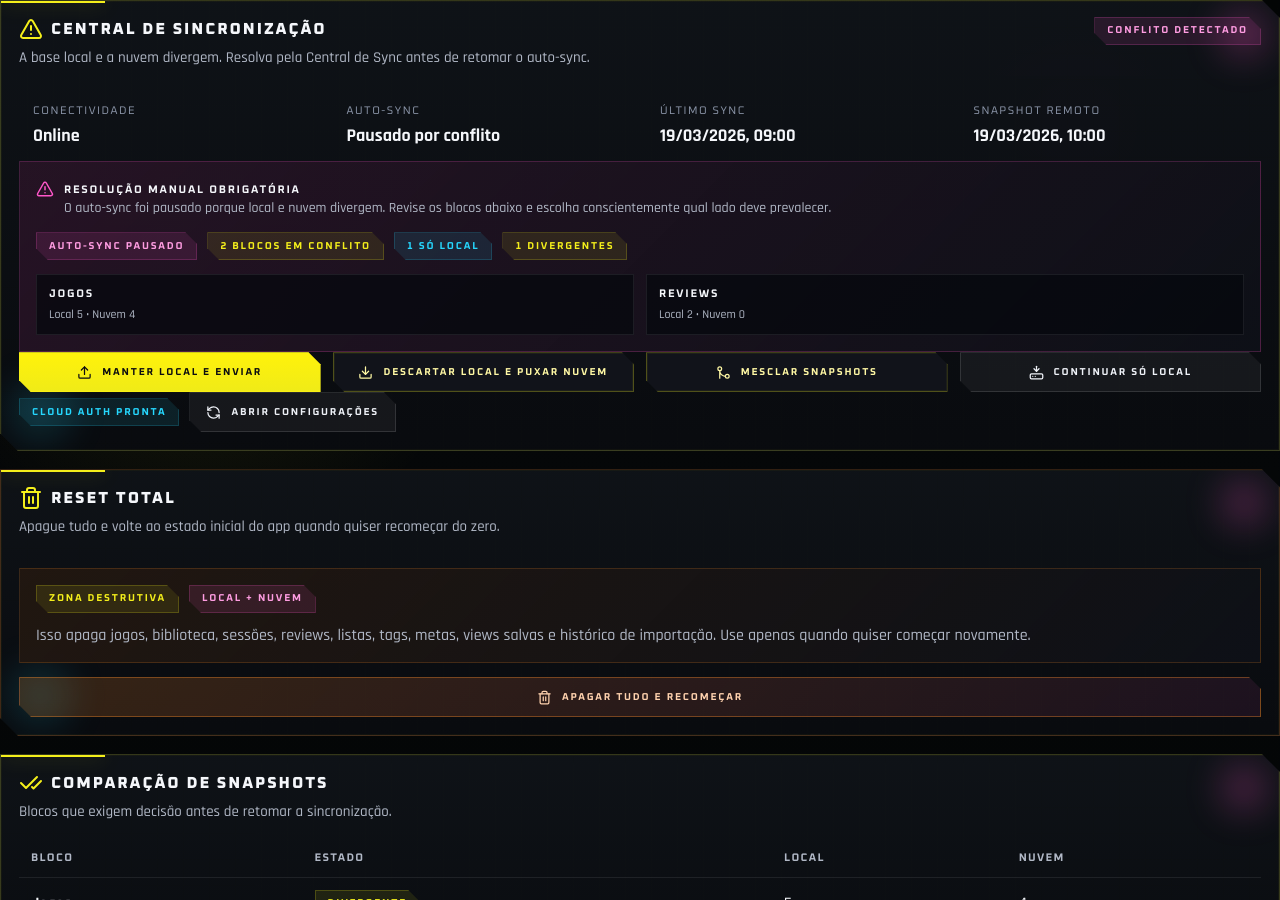
Test: SyncCenterScreen › requires confirmation before sending local data, pulling cloud data, or merging
The image size is (1280, 900).
Click the button "Manter local e enviar" at (170, 372), box [19,352,320,392]
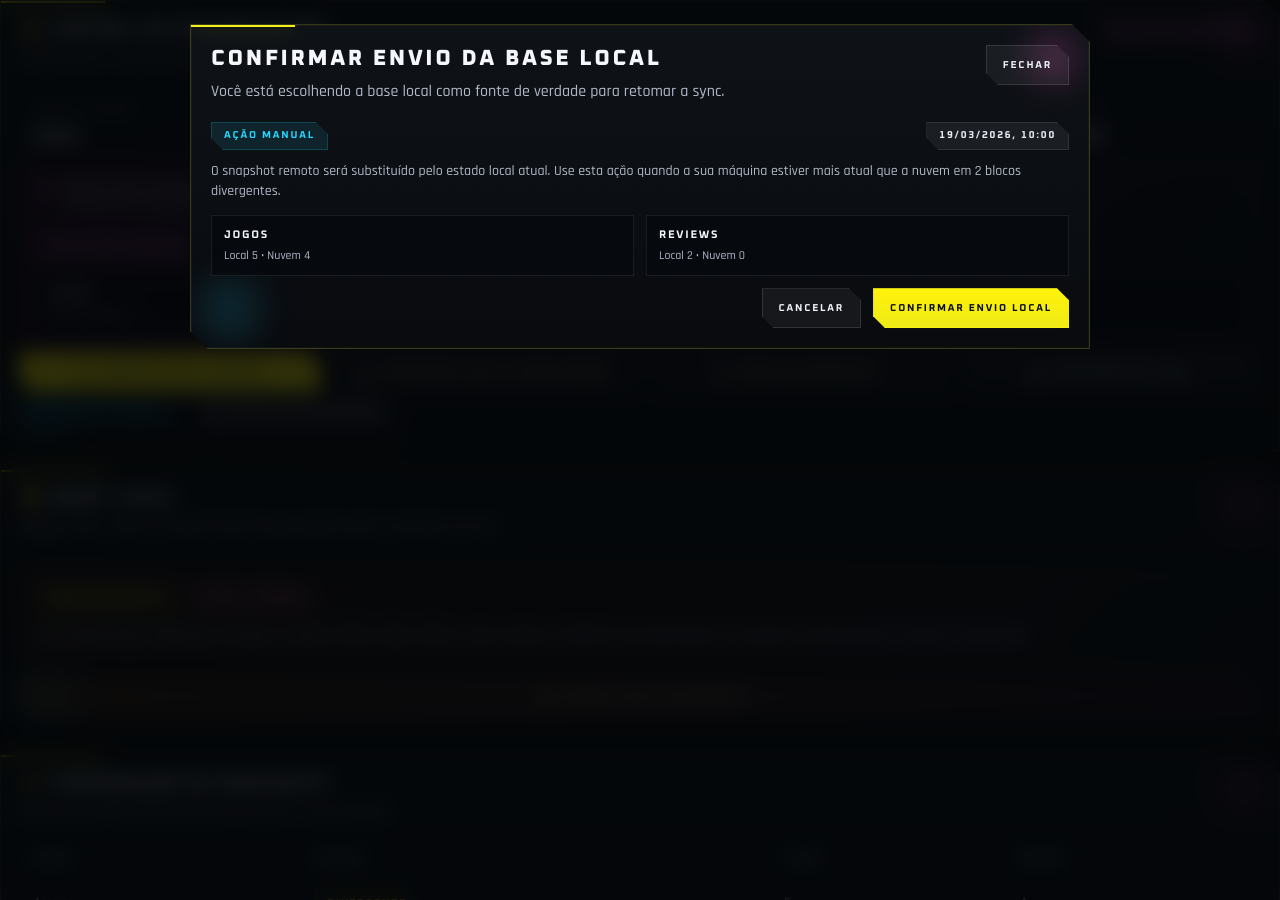
Expected: the dialog is shown
Expected: the heading "Confirmar envio da base local" is shown, [211,45,724,73]
Click the button "Confirmar envio local" at (971, 308), box [873,288,1069,328]
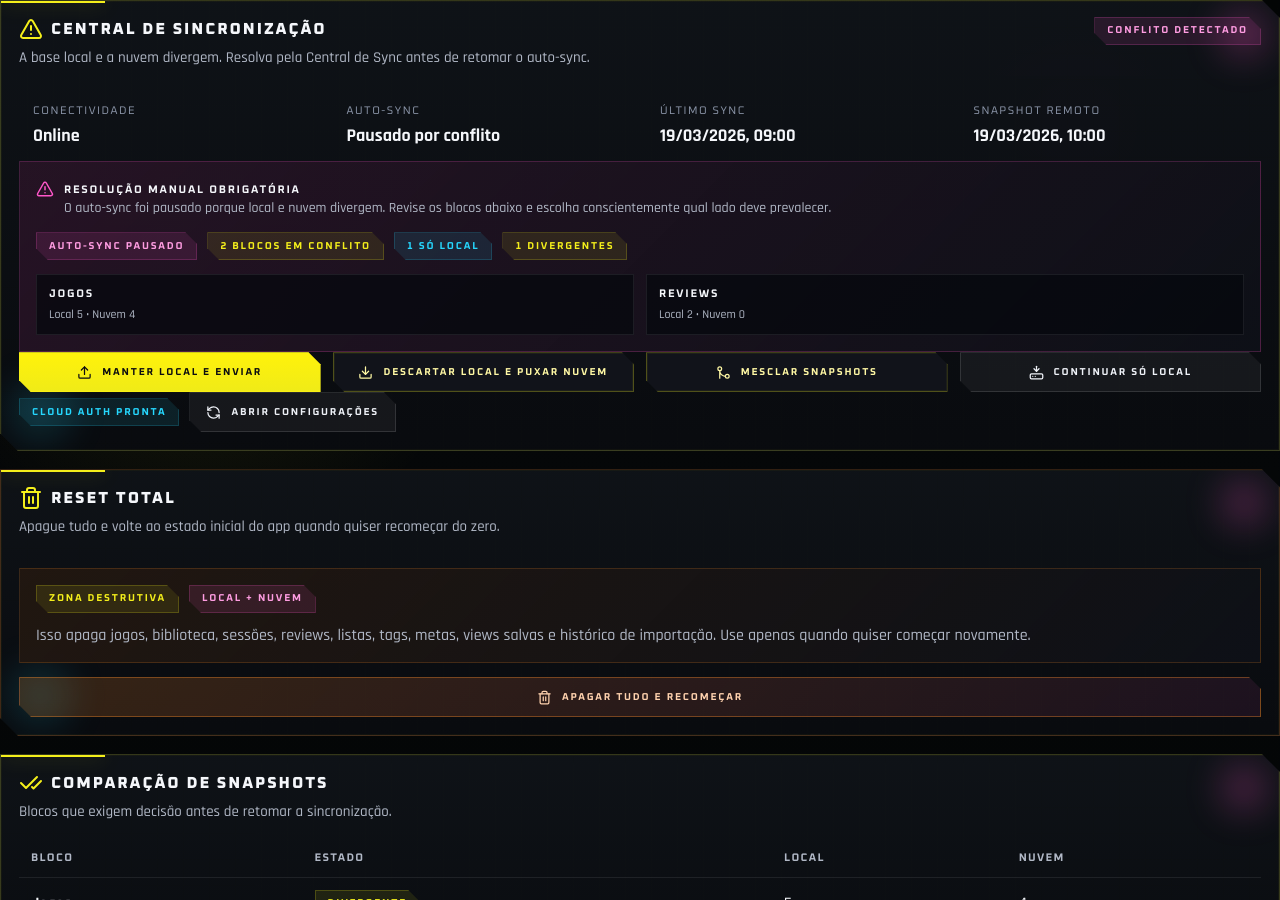
Expected: the heading "Confirmar envio da base local" is gone
Click the button "Descartar local e puxar nuvem" at (483, 372), box [332,352,634,392]
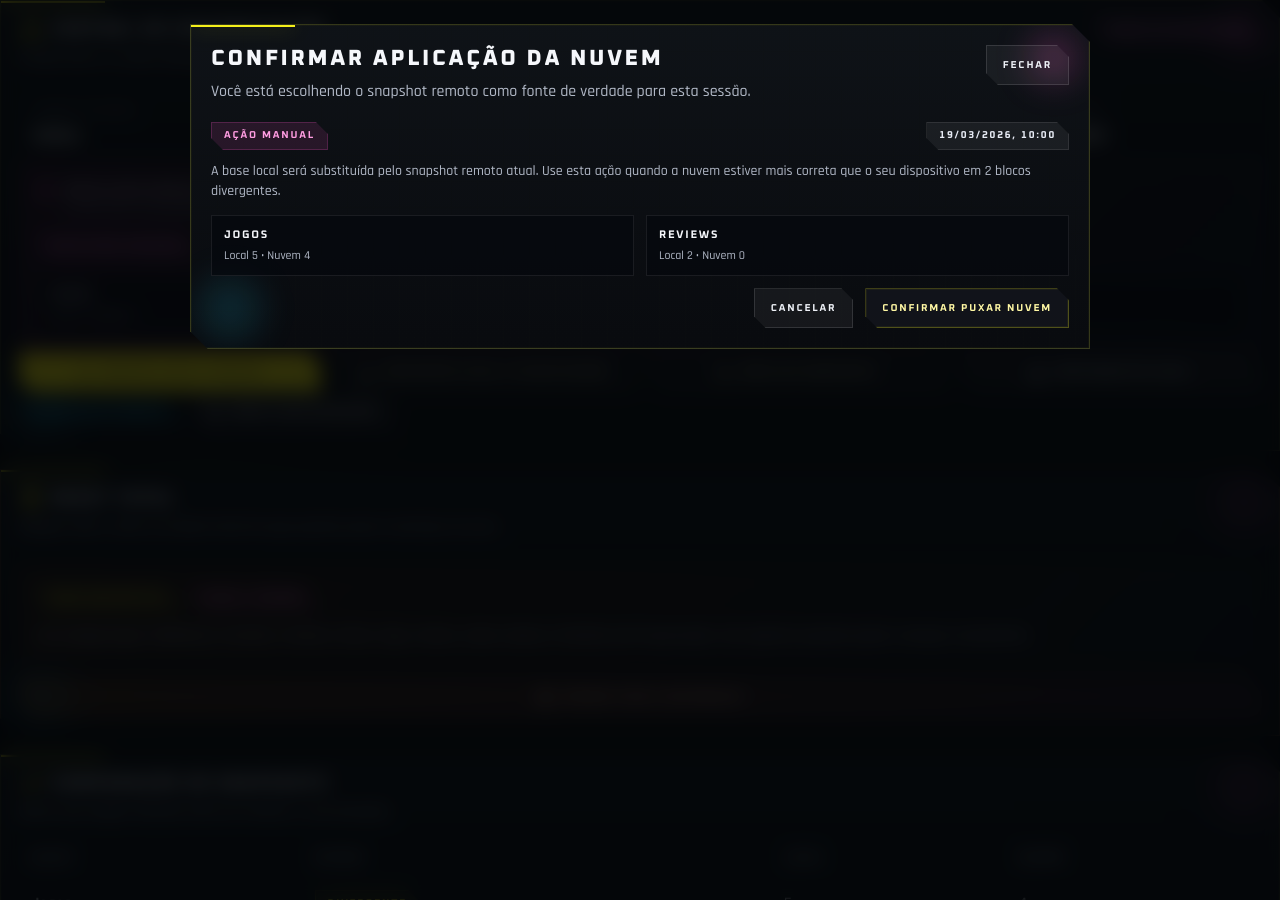
Expected: the heading "Confirmar aplicação da nuvem" is shown, [211,48,663,70]
Click the button "Confirmar puxar nuvem" at (967, 308), box [865,288,1069,328]
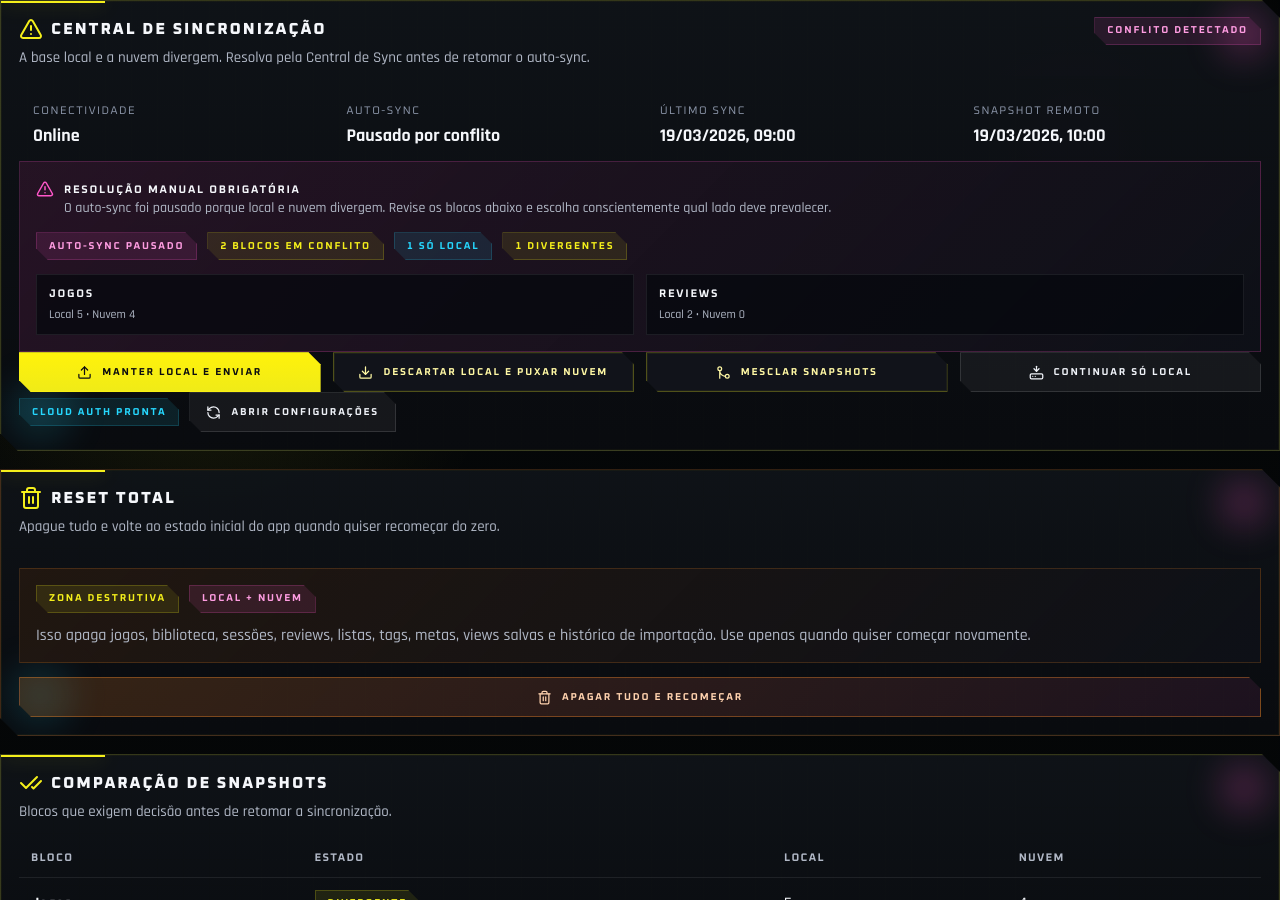
Expected: the heading "Confirmar aplicação da nuvem" is gone
Click the button "Mesclar snapshots" at (797, 372), box [646,352,948,392]
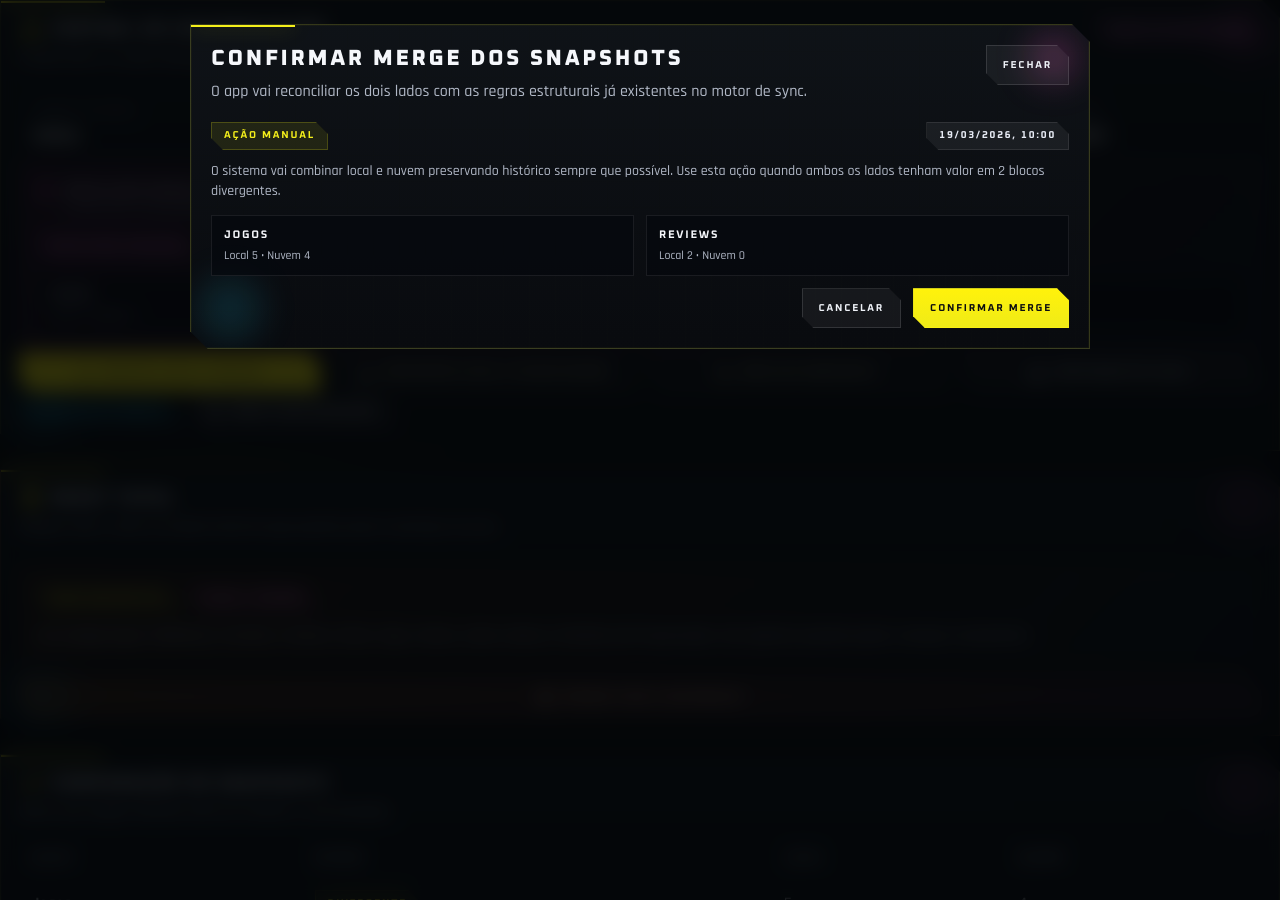
Expected: the heading "Confirmar merge dos snapshots" is shown, [211,48,683,70]
Click the button "Confirmar merge" at (991, 308), box [913,288,1069,328]
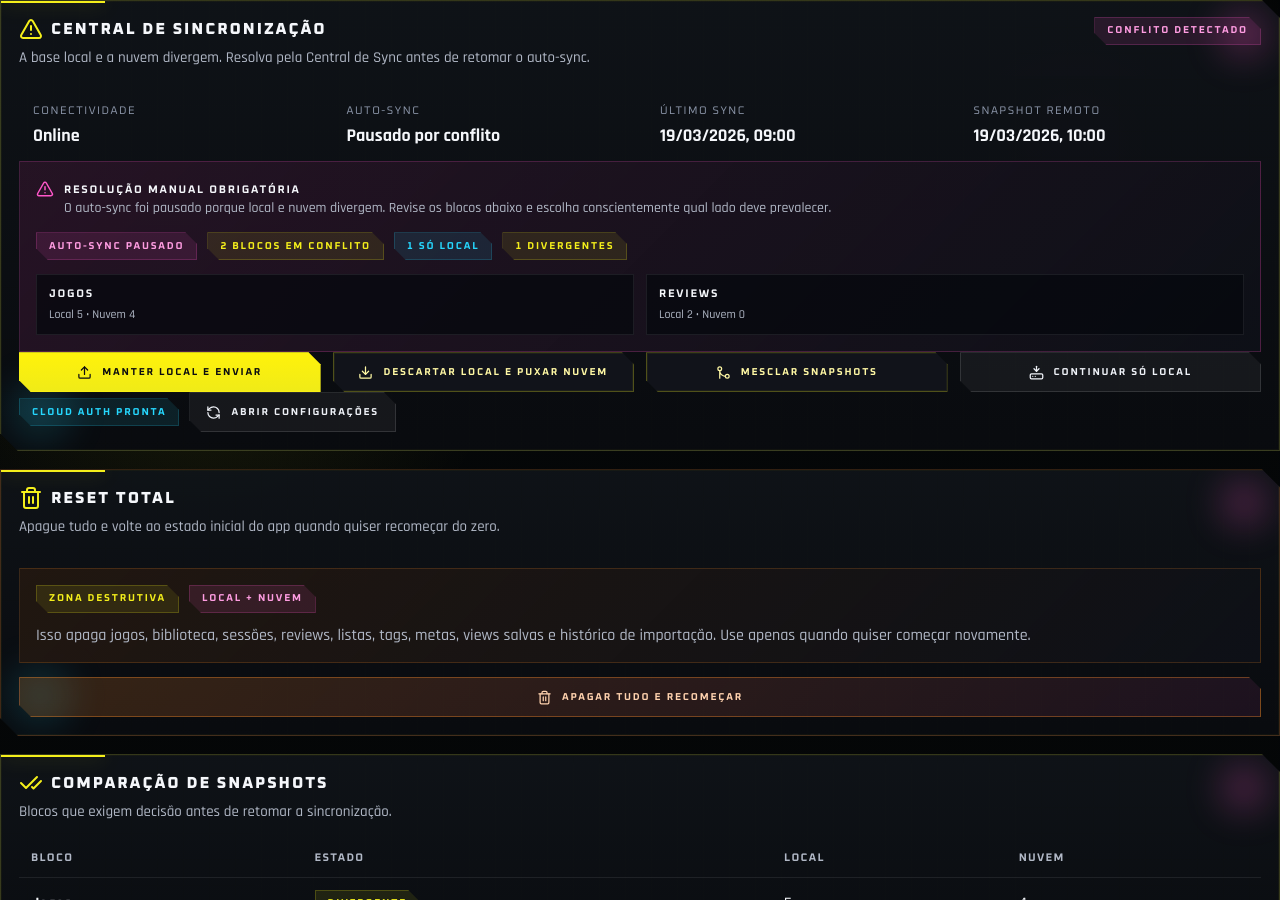
Expected: the heading "Confirmar merge dos snapshots" is gone
